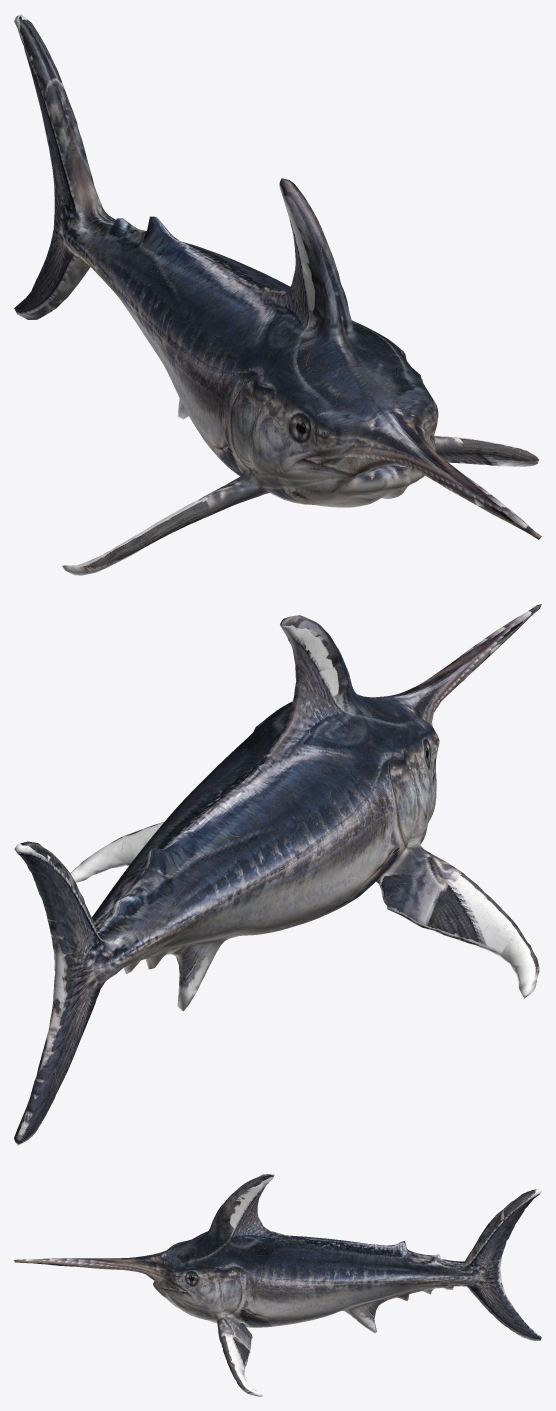
Rendered from fish_swordfish.glb.
The picture shows the model from 3 angles, top to bottom: view 1: azimuth 30°, elevation 25°; view 2: azimuth 150°, elevation 25°; view 3: azimuth 270°, elevation 25°; orthographic projection. The views are drawn at different scales.
Parts seen in each view (by area): view 1: geometry_0; view 2: geometry_0; view 3: geometry_0.
Boxes of the visible parts, x1,y1,x2,y2 form: geometry_0: (14,14,541,575); geometry_0: (14,604,541,1145); geometry_0: (14,1174,541,1396).
Bounding box in the file's own units: 1.01 × 0.6823 × 1.96.
1 material, 1 textured.
